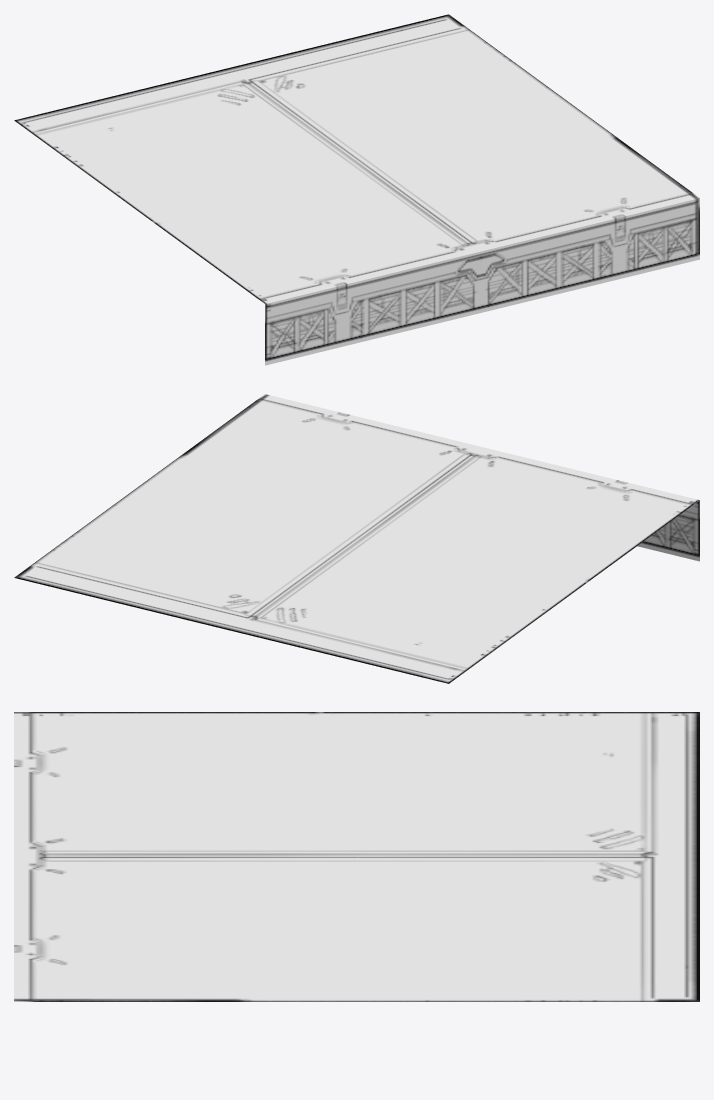
The model's file is WFpCube2.fbx.
3 views of the same model, one above another, from view 1: azimuth 30°, elevation 25°; view 2: azimuth 150°, elevation 25°; view 3: azimuth 270°, elevation 25° (orthographic). The views are drawn at different scales.
Visible parts, largest first — view 1: pCube2; view 2: pCube2; view 3: pCube2.
Boxes of the visible parts, left/top/right/bottom form: pCube2: left=14, top=14, right=699, bottom=365; pCube2: left=14, top=394, right=699, bottom=683; pCube2: left=14, top=712, right=699, bottom=1001.
Bounding box in the file's own units: 100 × 13.5 × 100.
1 material, 1 textured.
